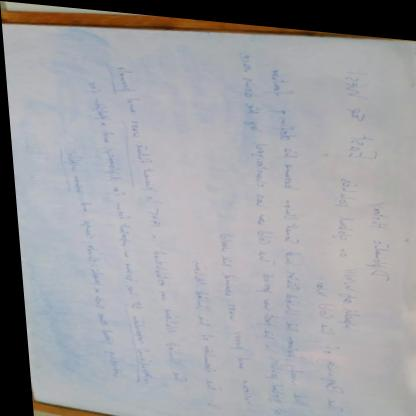Handwritten text: (107, 56, 189, 388), (76, 71, 152, 388), (230, 40, 292, 415), (51, 140, 121, 384), (264, 60, 309, 406), (207, 221, 253, 406), (323, 52, 390, 156), (177, 245, 220, 394), (304, 267, 343, 411), (332, 162, 363, 335), (357, 197, 399, 280)
Whiteboard: (1, 18, 416, 416)
